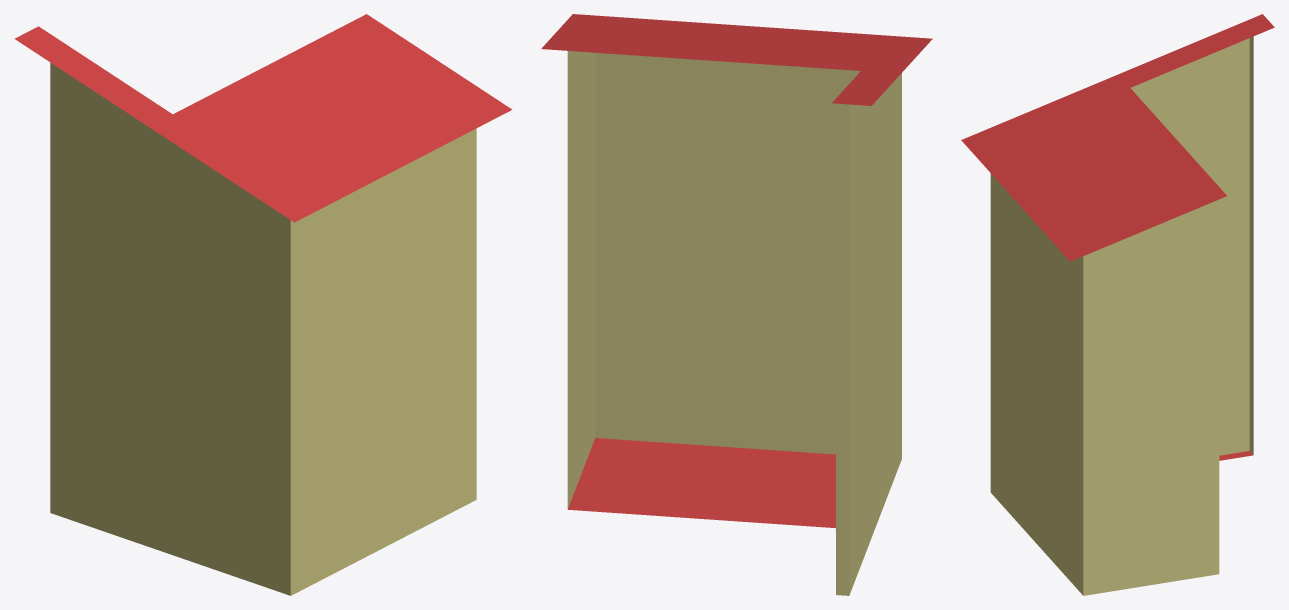
The picture shows the model from 3 angles, left to right: view 1: azimuth 30°, elevation 25°; view 2: azimuth 150°, elevation 25°; view 3: azimuth 270°, elevation 25°; orthographic projection. The views are drawn at different scales.
Bounding box in the file's own units: 8.81 × 6.88 × 10.27.
